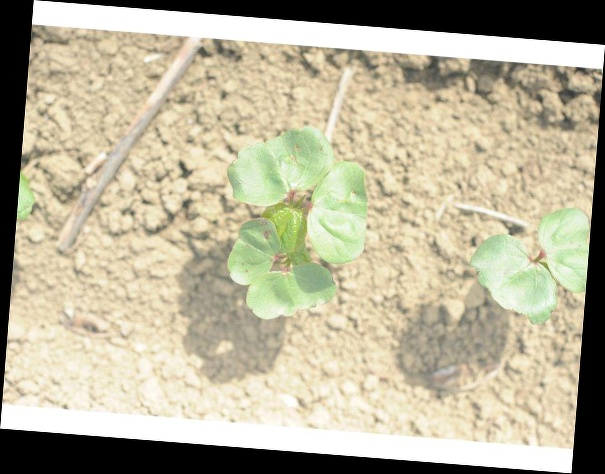cotton: (222, 127, 366, 321), (471, 202, 588, 322)
